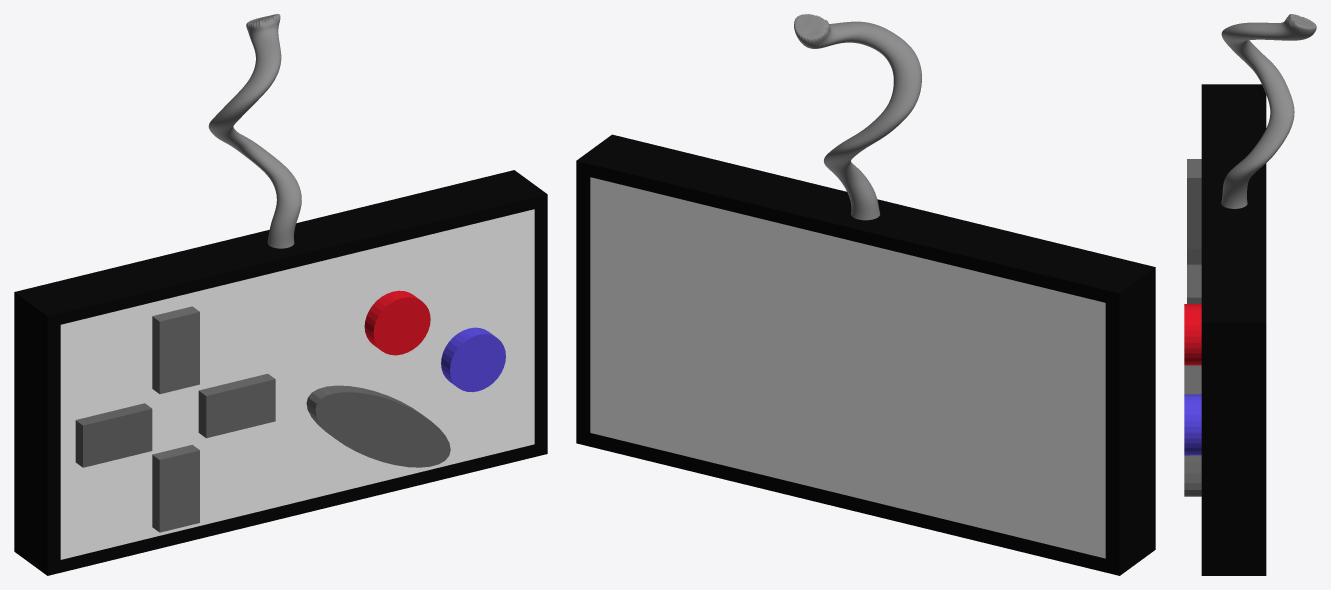
Rendered from khris.fbx.
3 views of the same model, side by side, from view 1: azimuth 30°, elevation 25°; view 2: azimuth 150°, elevation 25°; view 3: azimuth 270°, elevation 25° (orthographic). The views are drawn at different scales.
Parts seen in each view (by area): view 1: Cube, Cylinder.002, Cylinder.003, Cube.002, Cube.003, Cube.001, Cube.004, Cylinder, Cylinder.001; view 2: Cube, Cylinder.003; view 3: Cube, Cylinder.003, Cube.001, Cylinder.002, Cylinder, Cylinder.001, Cube.003, Cube.002.
Boxes of the visible parts, x1,y1,x2,y2 form: Cube: (14,170,547,575); Cylinder.002: (306,385,450,467); Cylinder.003: (208,14,301,248); Cube.002: (75,403,152,467); Cube.003: (198,373,275,438); Cube.001: (152,306,199,393); Cube.004: (152,444,199,532); Cylinder: (364,290,430,355); Cylinder.001: (441,327,505,392); Cube: (576,134,1155,575); Cylinder.003: (794,14,921,220); Cube: (1201,84,1266,575); Cylinder.003: (1221,14,1316,208); Cube.001: (1187,159,1201,248); Cylinder.002: (1184,365,1201,496); Cylinder: (1184,304,1201,365); Cylinder.001: (1184,394,1201,455); Cube.003: (1187,264,1201,303); Cube.002: (1187,249,1201,264).
Bounding box in the file's own units: 445 × 391 × 104.
